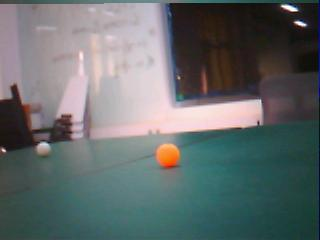oball: (157, 143, 179, 168)
